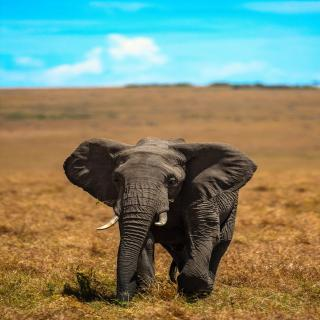Elephant: (52, 132, 260, 306)
